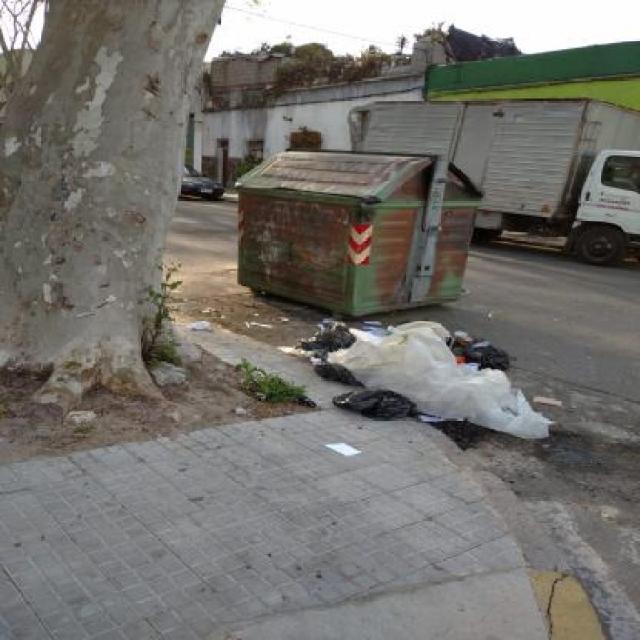garbage: (276, 294, 583, 492), (163, 305, 238, 357)
